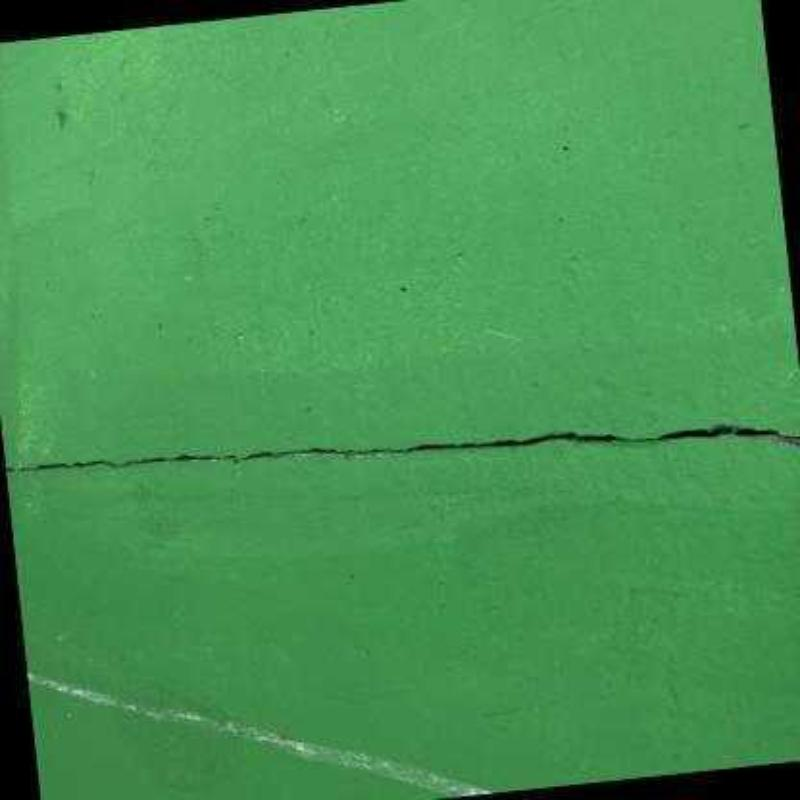crack: (4, 419, 800, 471)
